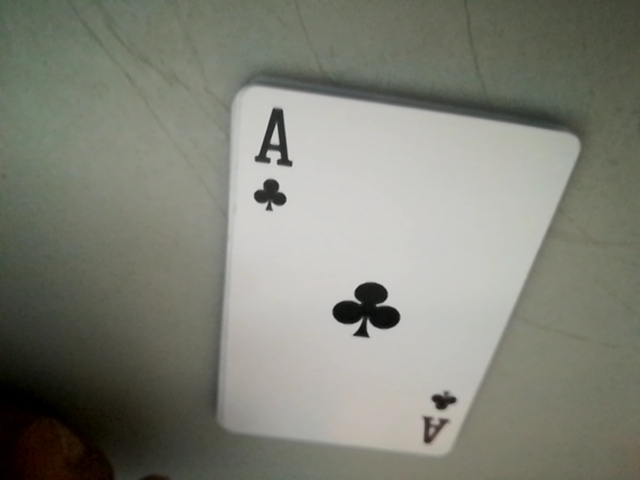mh a: (234, 90, 297, 220), (413, 383, 463, 457)
